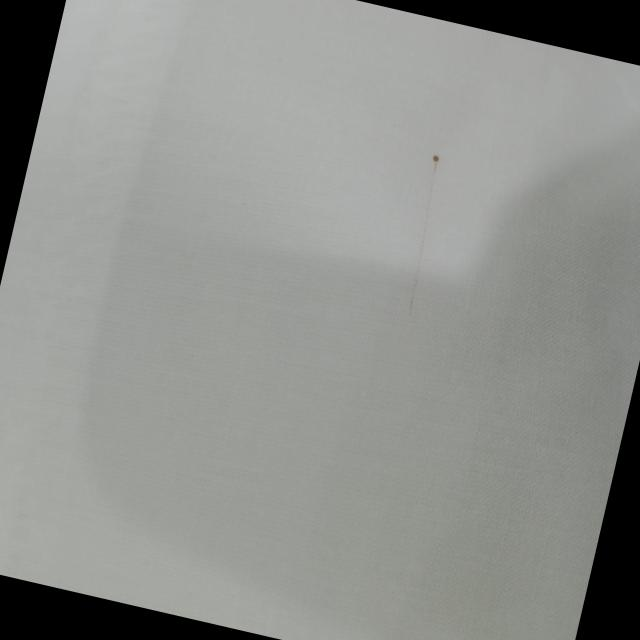stain: (392, 228, 442, 328), (414, 138, 456, 190)
